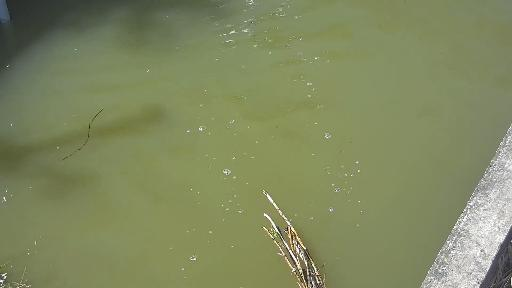twig: (258, 193, 326, 288), (49, 105, 104, 165), (0, 259, 28, 288)
